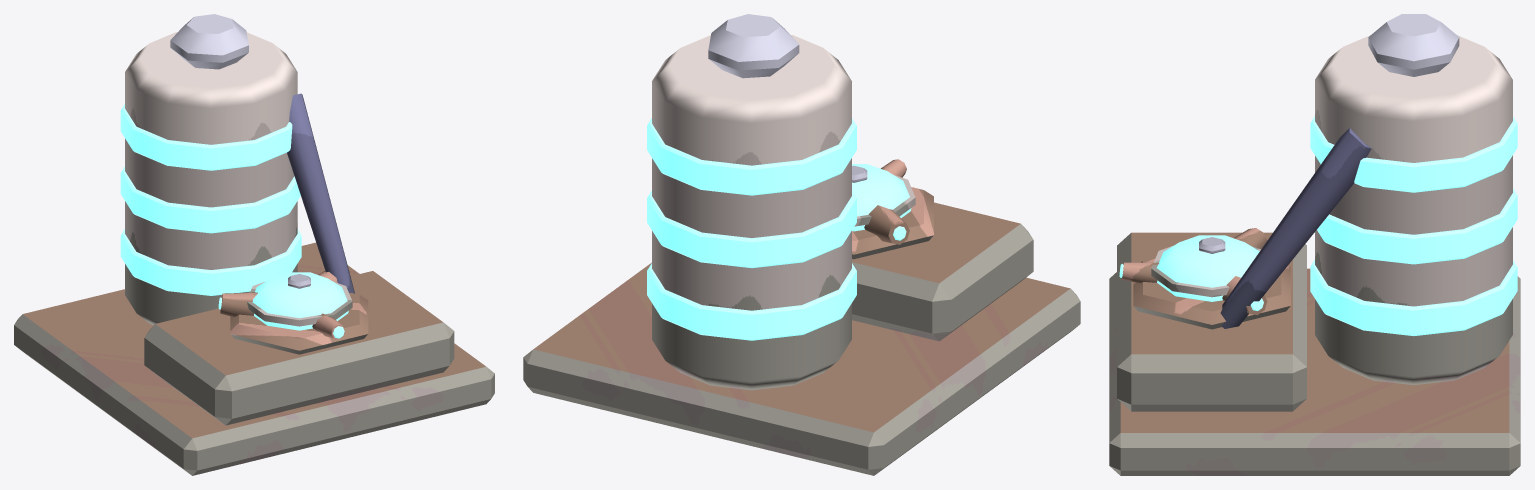
Rendered from R4X_SlowTrapDeployer_LOD1.glb.
3 views of the same model, side by side, from view 1: azimuth 30°, elevation 25°; view 2: azimuth 150°, elevation 25°; view 3: azimuth 270°, elevation 25° (orthographic). The views are drawn at different scales.
Visible parts, largest first — view 1: R4X_SlowTrapDeployer_LOD1; view 2: R4X_SlowTrapDeployer_LOD1; view 3: R4X_SlowTrapDeployer_LOD1.
Part boxes in pixels (x1,y1,x2,y2): R4X_SlowTrapDeployer_LOD1: [14, 14, 494, 475]; R4X_SlowTrapDeployer_LOD1: [523, 14, 1080, 475]; R4X_SlowTrapDeployer_LOD1: [1109, 14, 1520, 475].
Bounding box in the file's own units: 0.52 × 0.5145 × 0.52.
5 materials, 4 textured.
